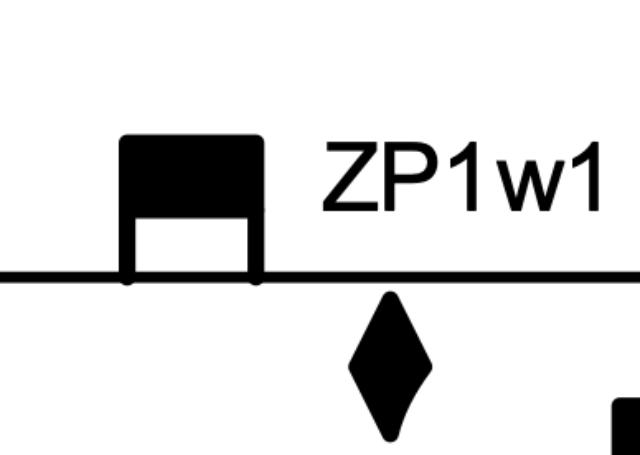radzaehler: (115, 121, 273, 297)
